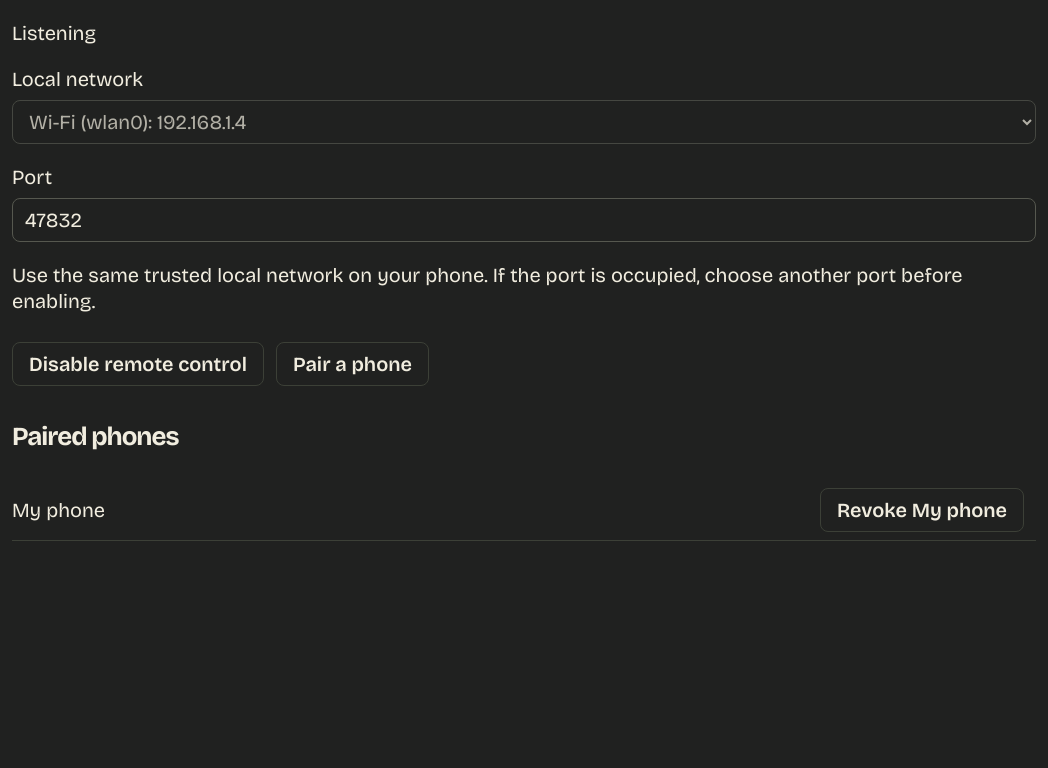
Test case: revokes only after confirmation and refreshes the metadata list
This screenshot has width=1048, height=768.
Click the button "Revoke My phone".
click(922, 510)  # box x1=820 y1=488 x2=1024 y2=532
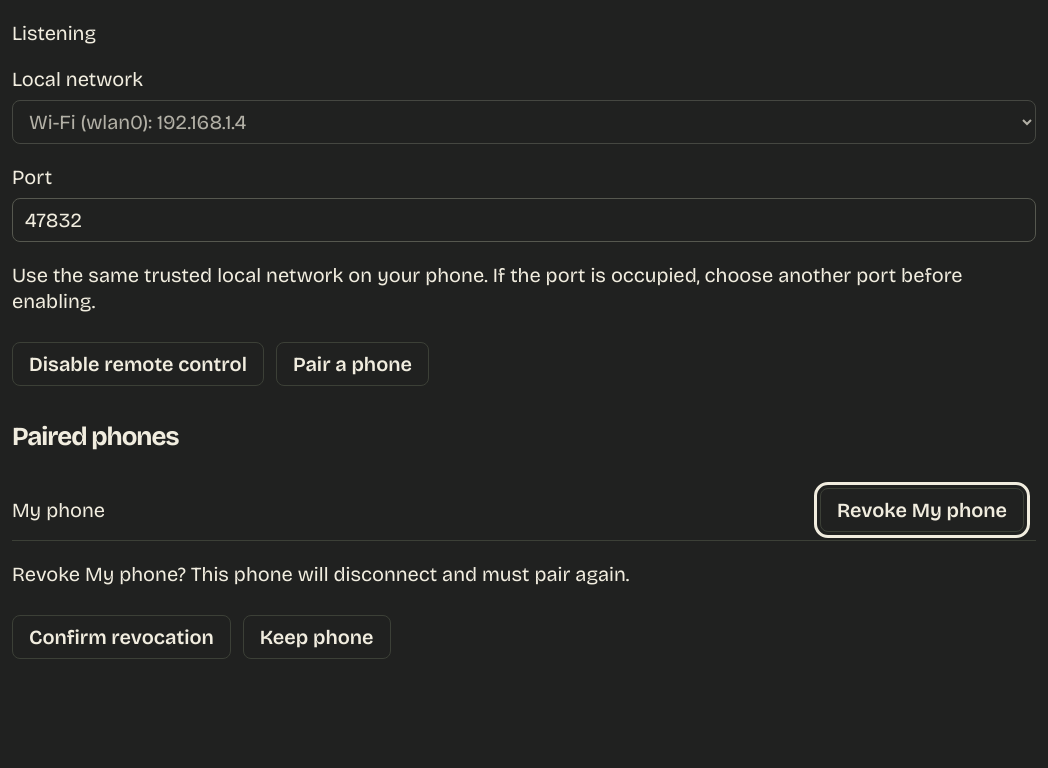
Click the button "Keep phone".
click(317, 637)  # box x1=243 y1=615 x2=391 y2=659
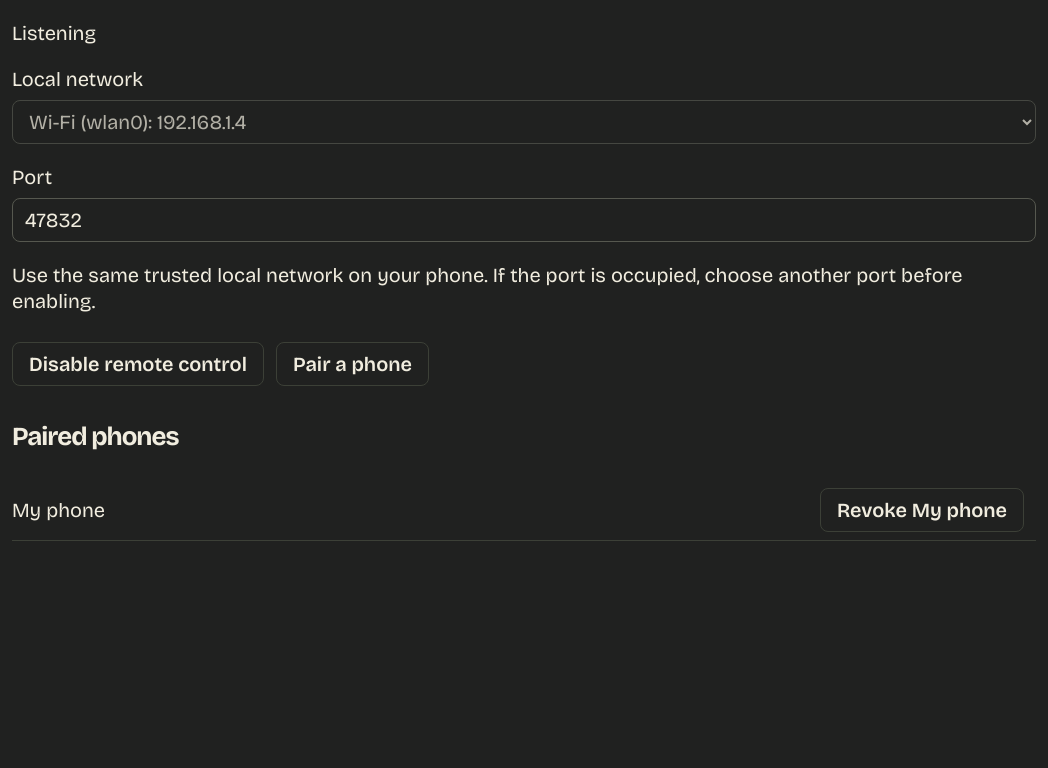
Now the button "Confirm revocation" is gone
Click the button "Revoke My phone".
click(922, 510)  # box x1=820 y1=488 x2=1024 y2=532
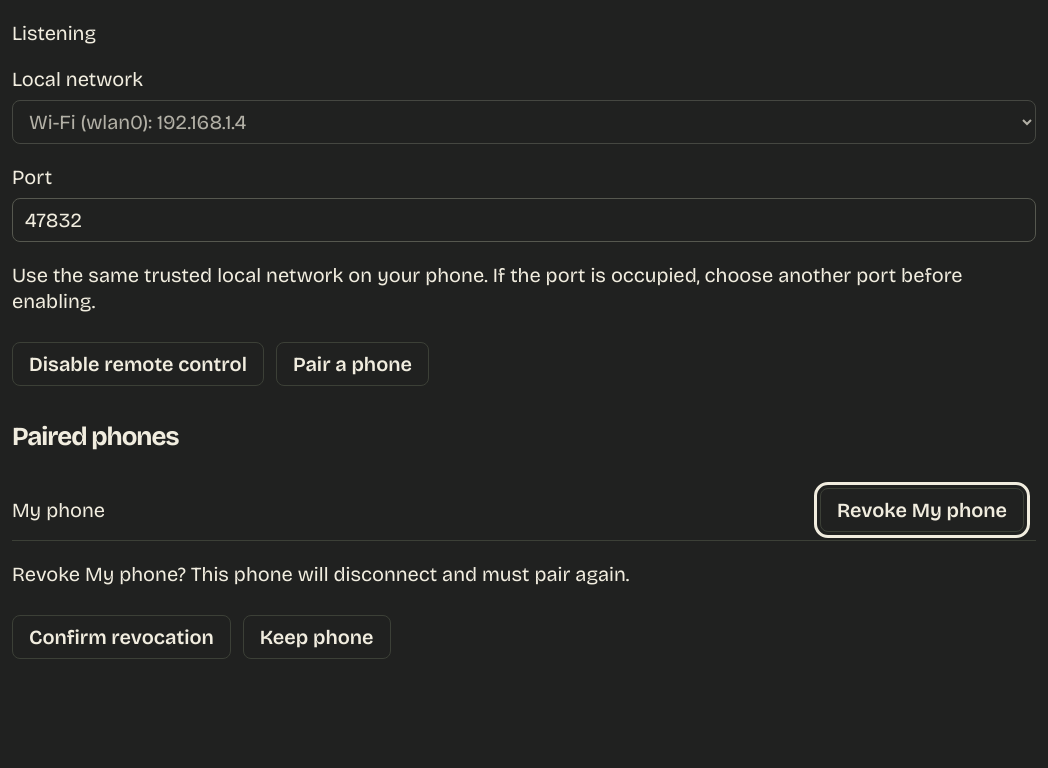
Click the button "Confirm revocation".
click(121, 637)  # box x1=12 y1=615 x2=231 y2=659
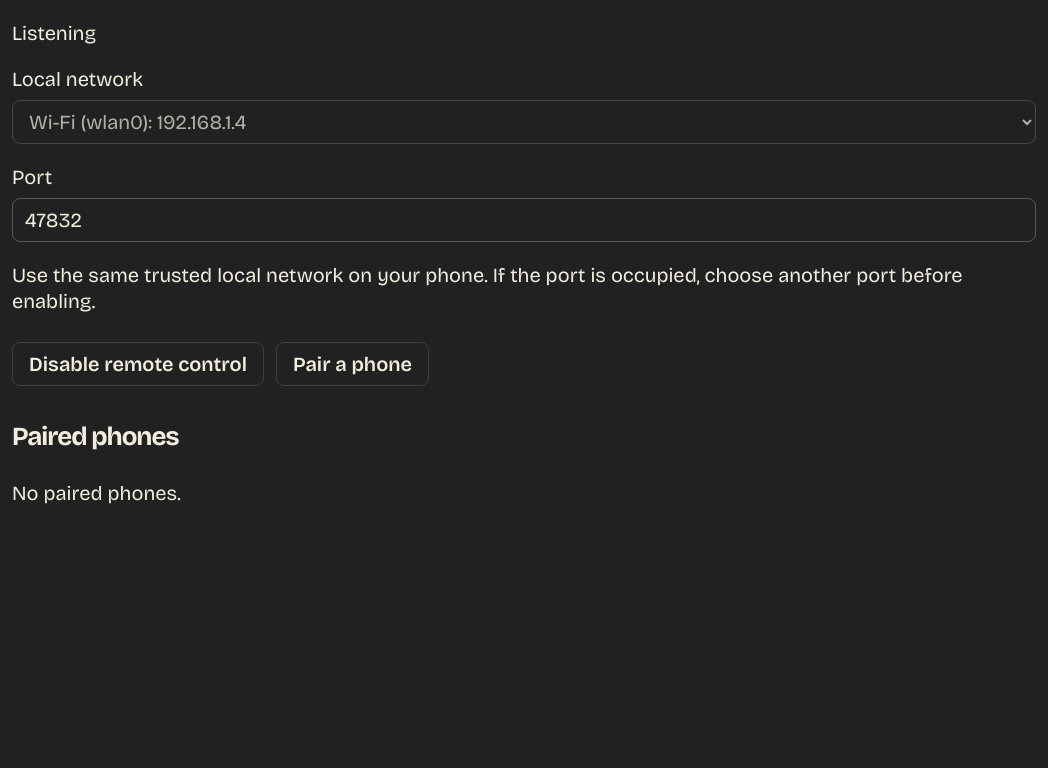
Now the text "No paired phones." is shown, box x1=12 y1=481 x2=181 y2=505
